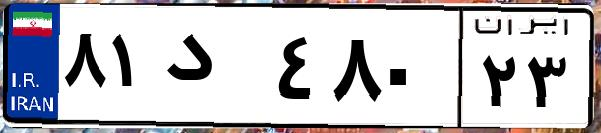0: (385, 28, 445, 110)
1: (110, 28, 158, 98)
2: (475, 38, 525, 113)
3: (525, 38, 570, 115)
4: (270, 28, 330, 110)
8: (330, 28, 385, 110), (57, 26, 110, 100)
د: (158, 20, 270, 120)
